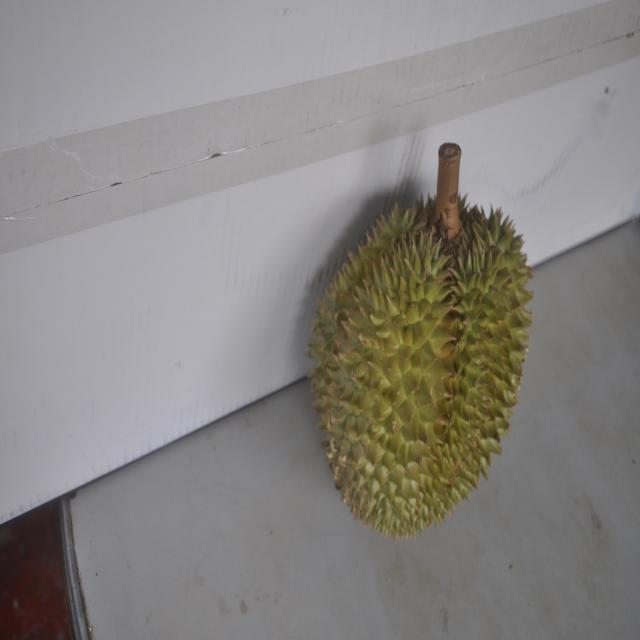mature: (308, 148, 532, 538)
